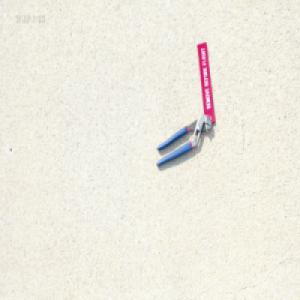Label: (196, 40, 215, 122)
Pliers: (155, 113, 211, 167)
